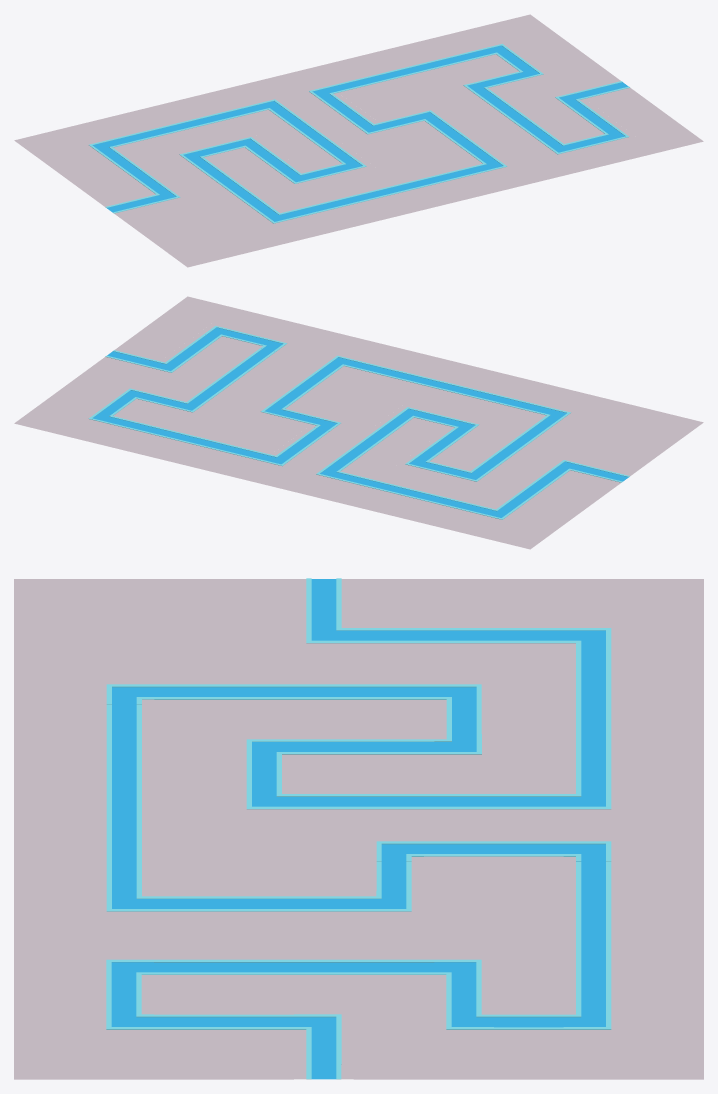
Rendered from trilha neve plus 2.fbx.
3 views of the same model, one above another, from view 1: azimuth 30°, elevation 25°; view 2: azimuth 150°, elevation 25°; view 3: azimuth 270°, elevation 25° (orthographic). The views are drawn at different scales.
Parts seen in each view (by area): view 1: Plane.024; view 2: Plane.024; view 3: Plane.024.
Part boxes in pixels (box(x1,y1,x2,y2)): Plane.024: box(14, 14, 703, 267); Plane.024: box(14, 296, 703, 549); Plane.024: box(14, 578, 703, 1079).
Size of the model in its own units: 31726 by 15.72 by 18481.
